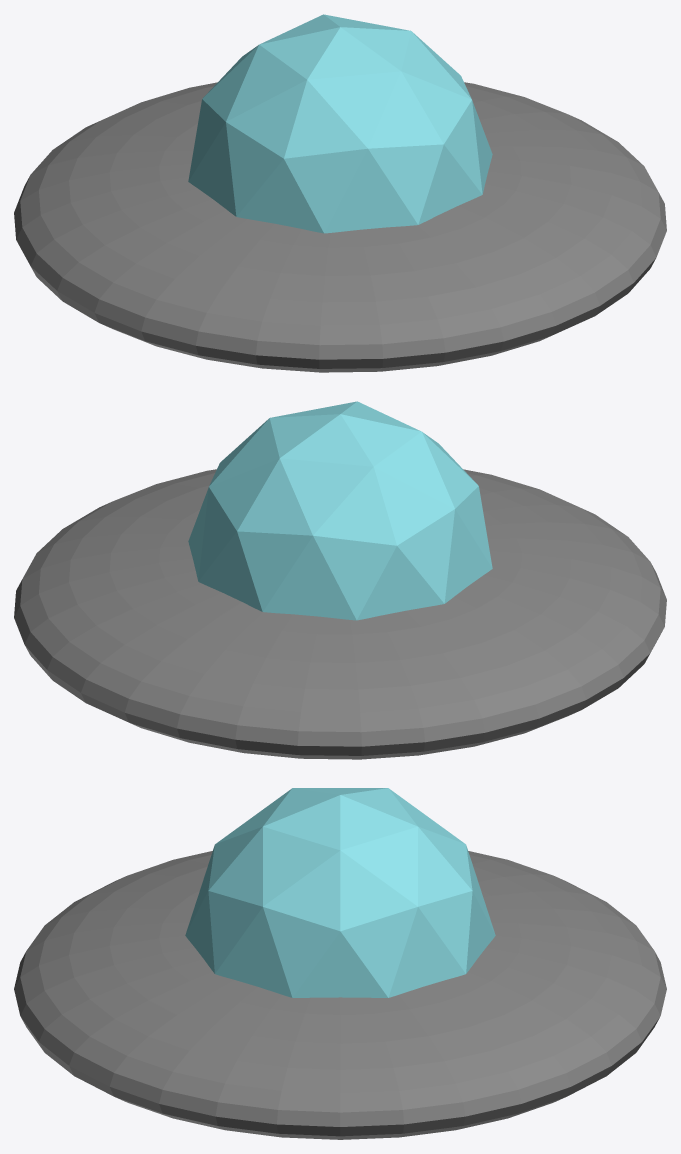
File: UFO1WIP.fbx
3 renders of one model, top to bottom at view 1: azimuth 30°, elevation 25°; view 2: azimuth 150°, elevation 25°; view 3: azimuth 270°, elevation 25°, orthographic.
Parts seen in each view (by area): view 1: Sphere, Icosphere; view 2: Sphere, Icosphere; view 3: Sphere, Icosphere.
Part boxes in pixels (x1,y1,x2,y2): Sphere: [14, 82, 666, 372]; Icosphere: [188, 14, 492, 233]; Sphere: [14, 469, 666, 759]; Icosphere: [188, 401, 492, 620]; Sphere: [14, 851, 666, 1139]; Icosphere: [185, 788, 495, 997].
Size of the model in its own units: 1011 by 436 by 1011.
